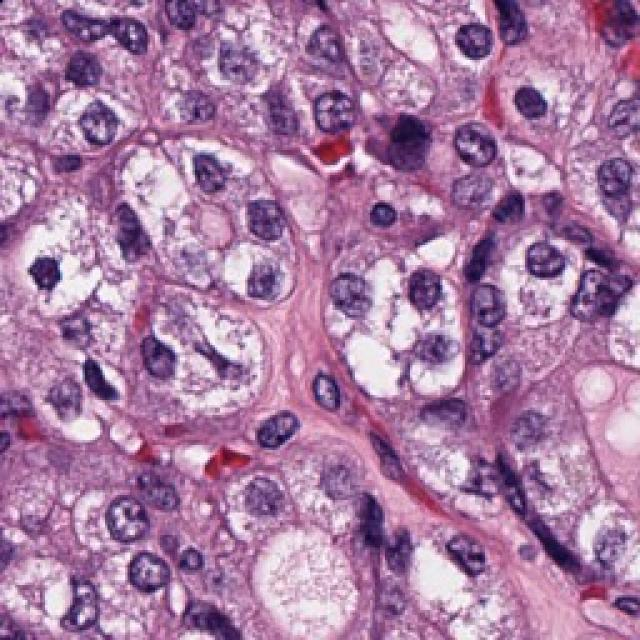abnormal: (424, 97, 534, 201), (35, 64, 133, 161), (72, 183, 176, 266), (9, 216, 90, 322), (506, 227, 586, 317), (98, 534, 195, 606), (222, 235, 307, 315), (389, 243, 464, 333), (178, 132, 262, 212), (291, 68, 369, 153), (393, 314, 468, 390), (316, 254, 379, 337), (573, 144, 640, 221), (72, 483, 159, 542)
